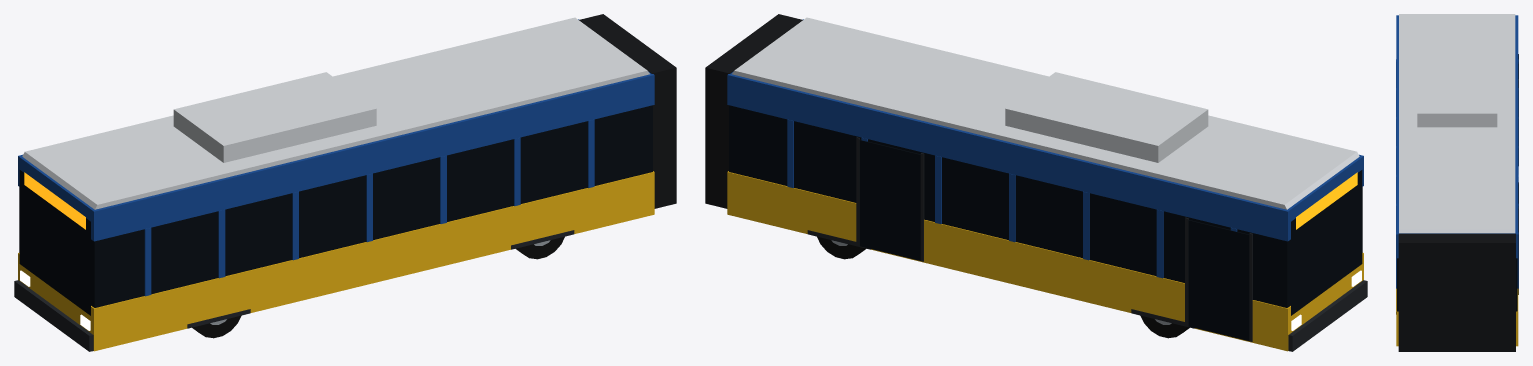
File: bus60f-blue.glb
3 views of the same model, side by side, from view 1: azimuth 30°, elevation 25°; view 2: azimuth 150°, elevation 25°; view 3: azimuth 270°, elevation 25° (orthographic). The views are drawn at different scales.
Parts seen in each view (by area): view 1: bus60-front; view 2: bus60-front; view 3: bus60-front.
Boxes of the visible parts, <box> form: bus60-front: <box>14,14,676,351</box>; bus60-front: <box>705,14,1367,351</box>; bus60-front: <box>1396,14,1518,351</box>.
Bounding box in the file's own units: 11.54 × 3.33 × 2.61.
